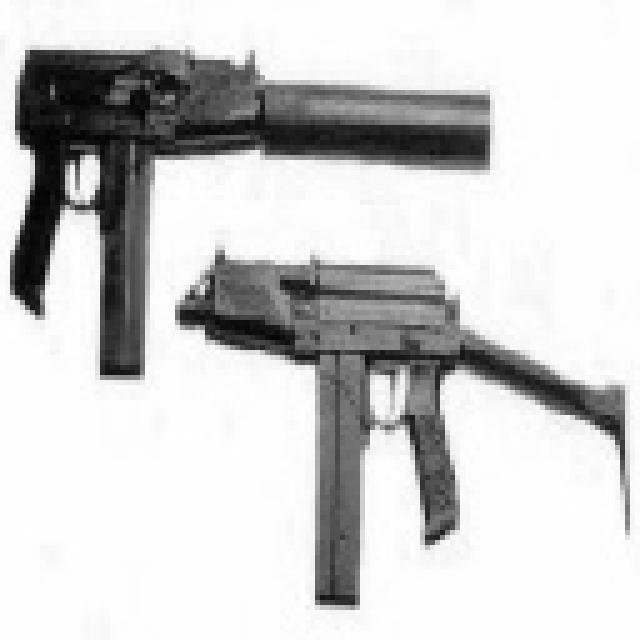Rifle: (0, 0, 515, 390), (165, 225, 640, 615)
